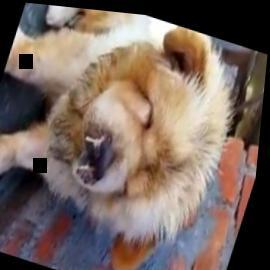nasal_discharge: (73, 126, 121, 183)
